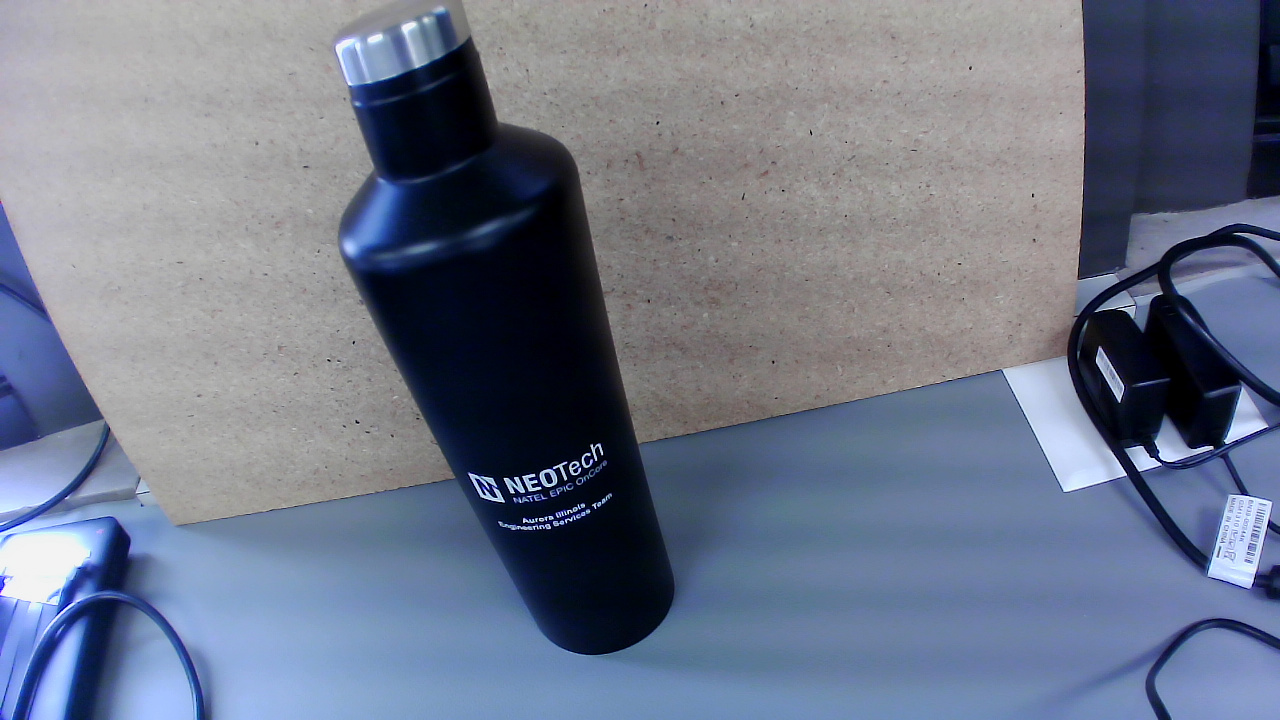neobottle: (323, 3, 693, 660)
